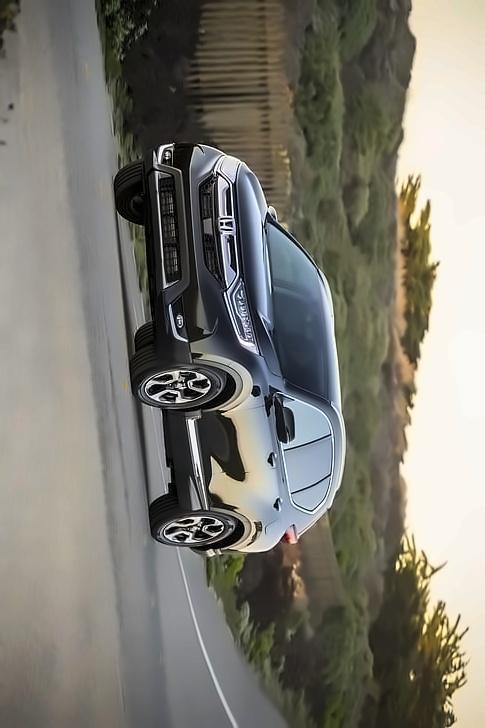Car hood: (236, 160, 284, 377)
Fender - -F-L-: (166, 350, 288, 419)
Fender - -R-L-: (236, 506, 303, 552)
Front bumper: (146, 134, 229, 374)
Headlight - -L-: (218, 270, 263, 360)
Headlight - -R-: (209, 146, 245, 189)
Passenger-s door - -F-L-: (185, 395, 346, 469)
Passenger-s door - -R-L-: (187, 466, 347, 524)
Rear bumper: (178, 539, 246, 559)
Rear light - -L-: (278, 519, 306, 548)
Side bumper - -L-: (161, 406, 212, 517)
Side mirror - -L-: (271, 397, 299, 449)
Side mirror - -R-: (263, 201, 290, 231)
